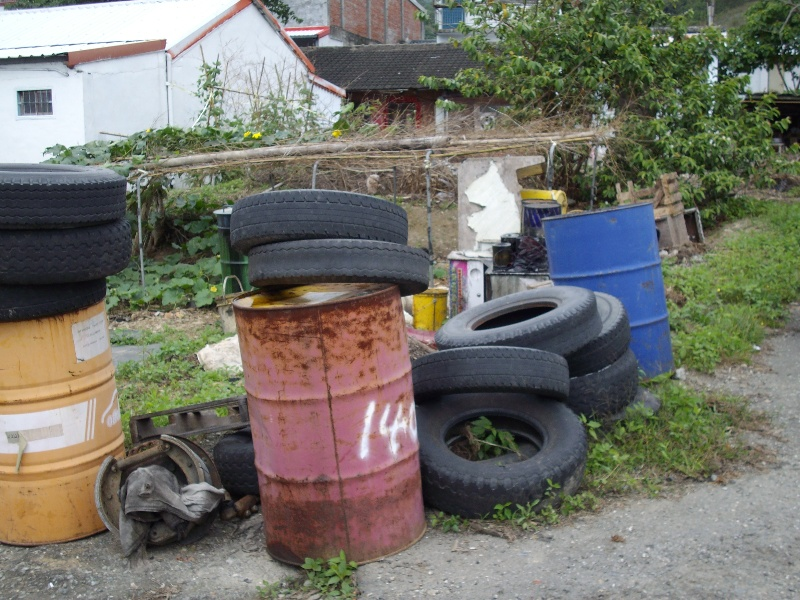bucket: (232, 281, 427, 567), (1, 299, 127, 545), (541, 203, 674, 382), (413, 287, 448, 331)
tire: (416, 391, 587, 518), (434, 285, 602, 357), (229, 188, 406, 254), (247, 236, 429, 296), (412, 346, 570, 405), (1, 161, 127, 231), (1, 220, 134, 283)
